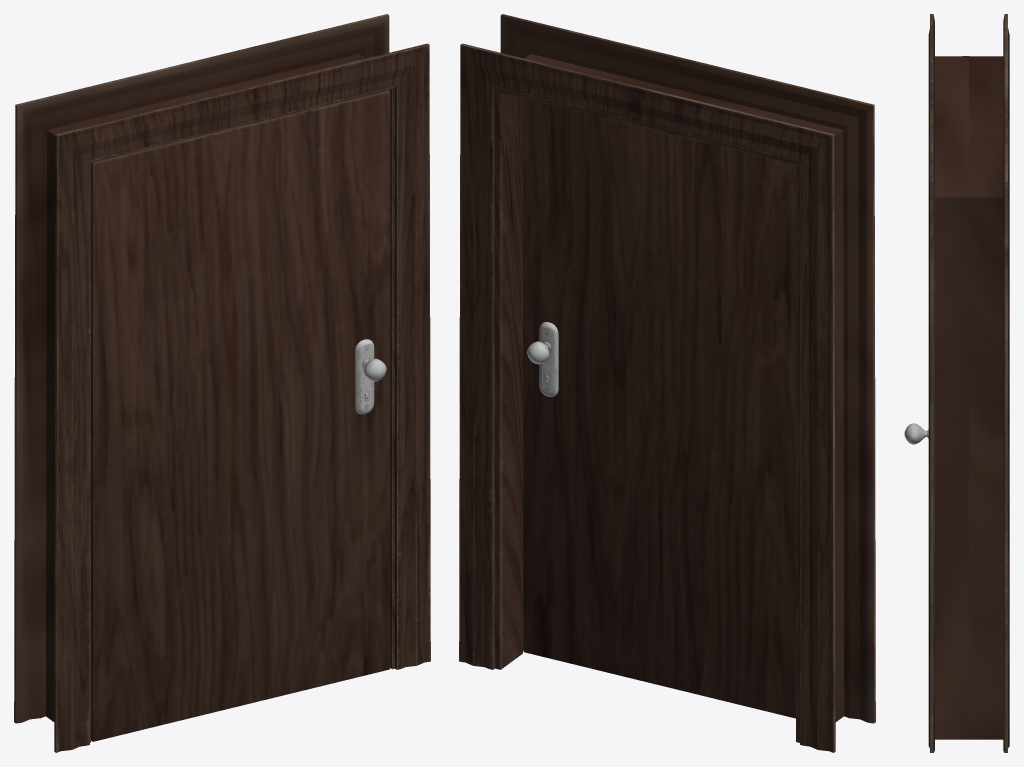
The model's file is door.glb.
3 renders of one model, left to right at view 1: azimuth 30°, elevation 25°; view 2: azimuth 150°, elevation 25°; view 3: azimuth 270°, elevation 25°, orthographic. The views are drawn at different scales.
Visible parts, largest first — view 1: Door, Frame, Handle; view 2: Door, Frame, Handle; view 3: Frame, Handle.
Boxes of the visible parts, x1,y1,x2,y2 form: Door: (91,90,390,741); Frame: (14,14,430,752); Handle: (355,339,386,414); Door: (523,98,795,718); Frame: (459,14,875,752); Handle: (527,322,558,396); Frame: (928,14,1009,752); Handle: (904,423,928,444).
Bounding box in the file's own units: 1.49 × 2.35 × 0.3923.
3 materials, 3 textured.
